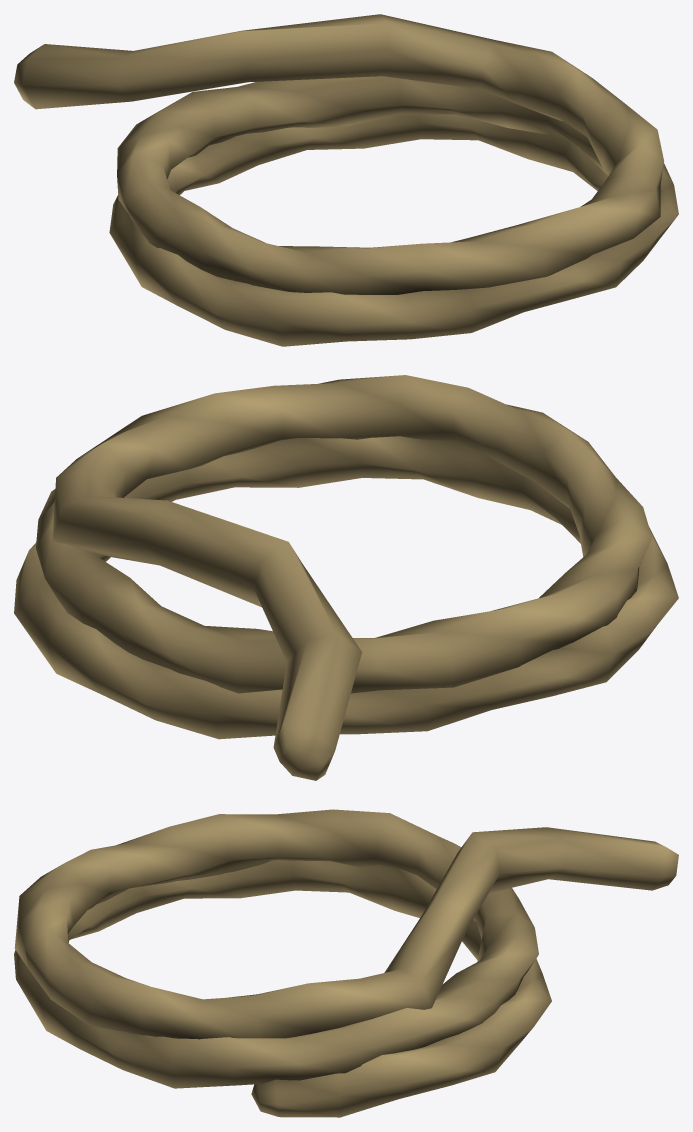
File: cordage.glb
3 renders of one model, top to bottom at view 1: azimuth 30°, elevation 25°; view 2: azimuth 150°, elevation 25°; view 3: azimuth 270°, elevation 25°, orthographic. The views are drawn at different scales.
Parts seen in each view (by area): view 1: cordage; view 2: cordage; view 3: cordage.
Boxes of the visible parts, <box> form: cordage: <box>14,14,678,346</box>; cordage: <box>14,375,678,780</box>; cordage: <box>14,809,678,1117</box>.
Bounding box in the file's own units: 0.1161 × 0.035 × 0.1384.
